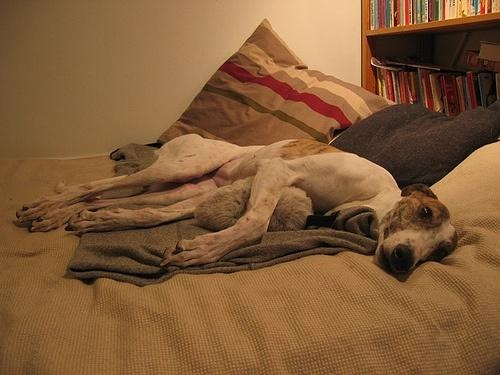dog: (16, 134, 460, 275)
